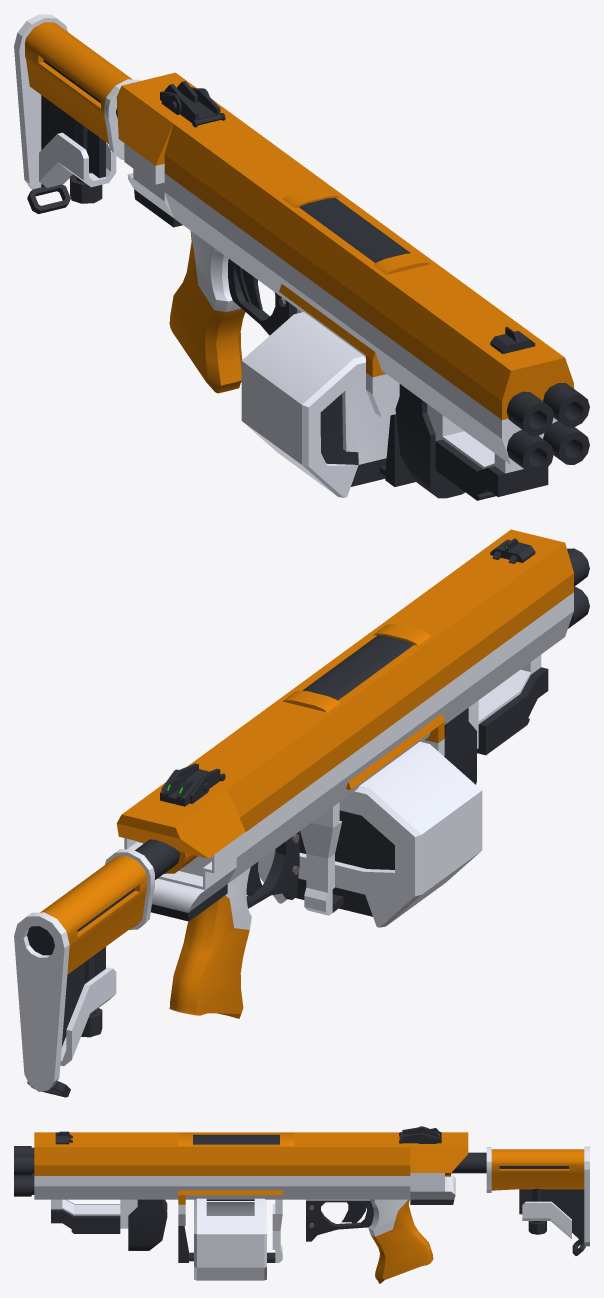
3 renders of one model, top to bottom at view 1: azimuth 30°, elevation 25°; view 2: azimuth 150°, elevation 25°; view 3: azimuth 270°, elevation 25°, orthographic. The views are drawn at different scales.
Parts seen in each view (by area): view 1: mergedBlocks; view 2: mergedBlocks; view 3: mergedBlocks.
Boxes of the visible parts, x1,y1,x2,y2 form: mergedBlocks: (14,14,589,500); mergedBlocks: (14,529,589,1097); mergedBlocks: (14,1126,589,1283).
Bounding box in the file's own units: 1 × 1.44 × 4.97.
